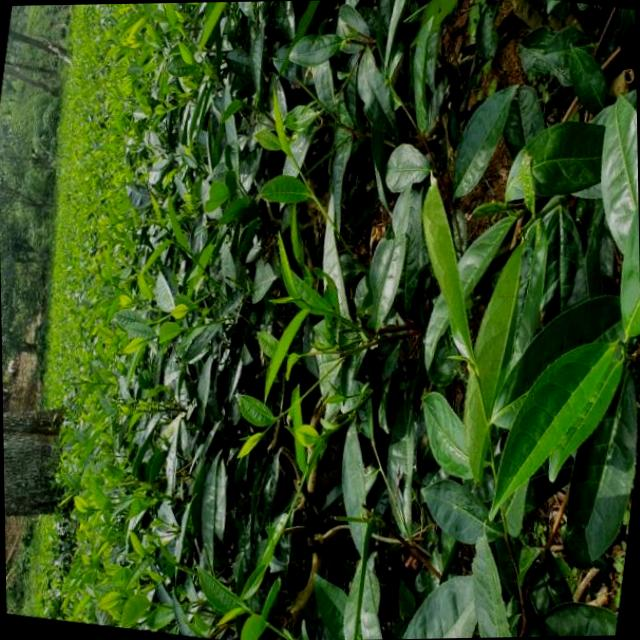Stem: (312, 198, 324, 214), (176, 243, 184, 251), (148, 335, 157, 340), (274, 415, 279, 420)
